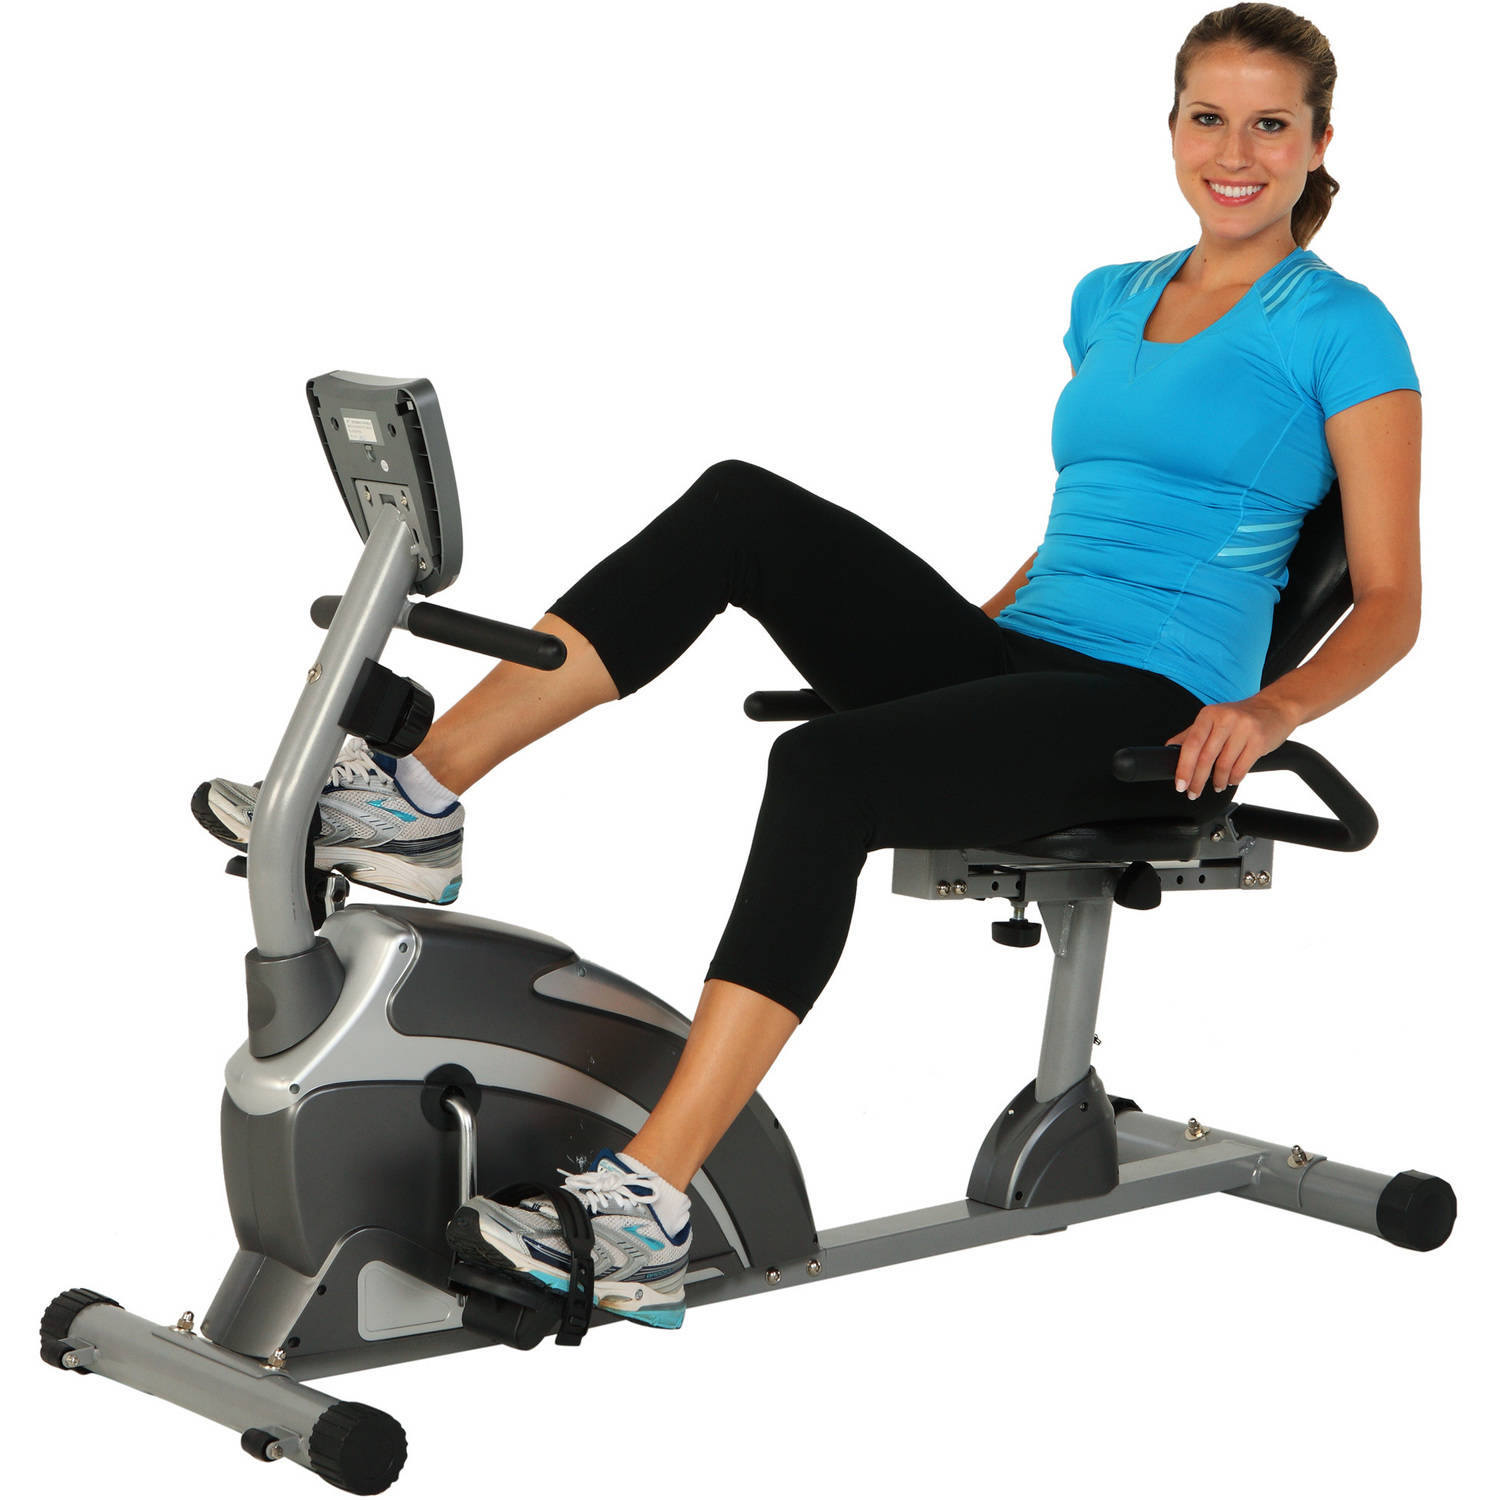gym_bike: (80, 357, 1473, 1471)
